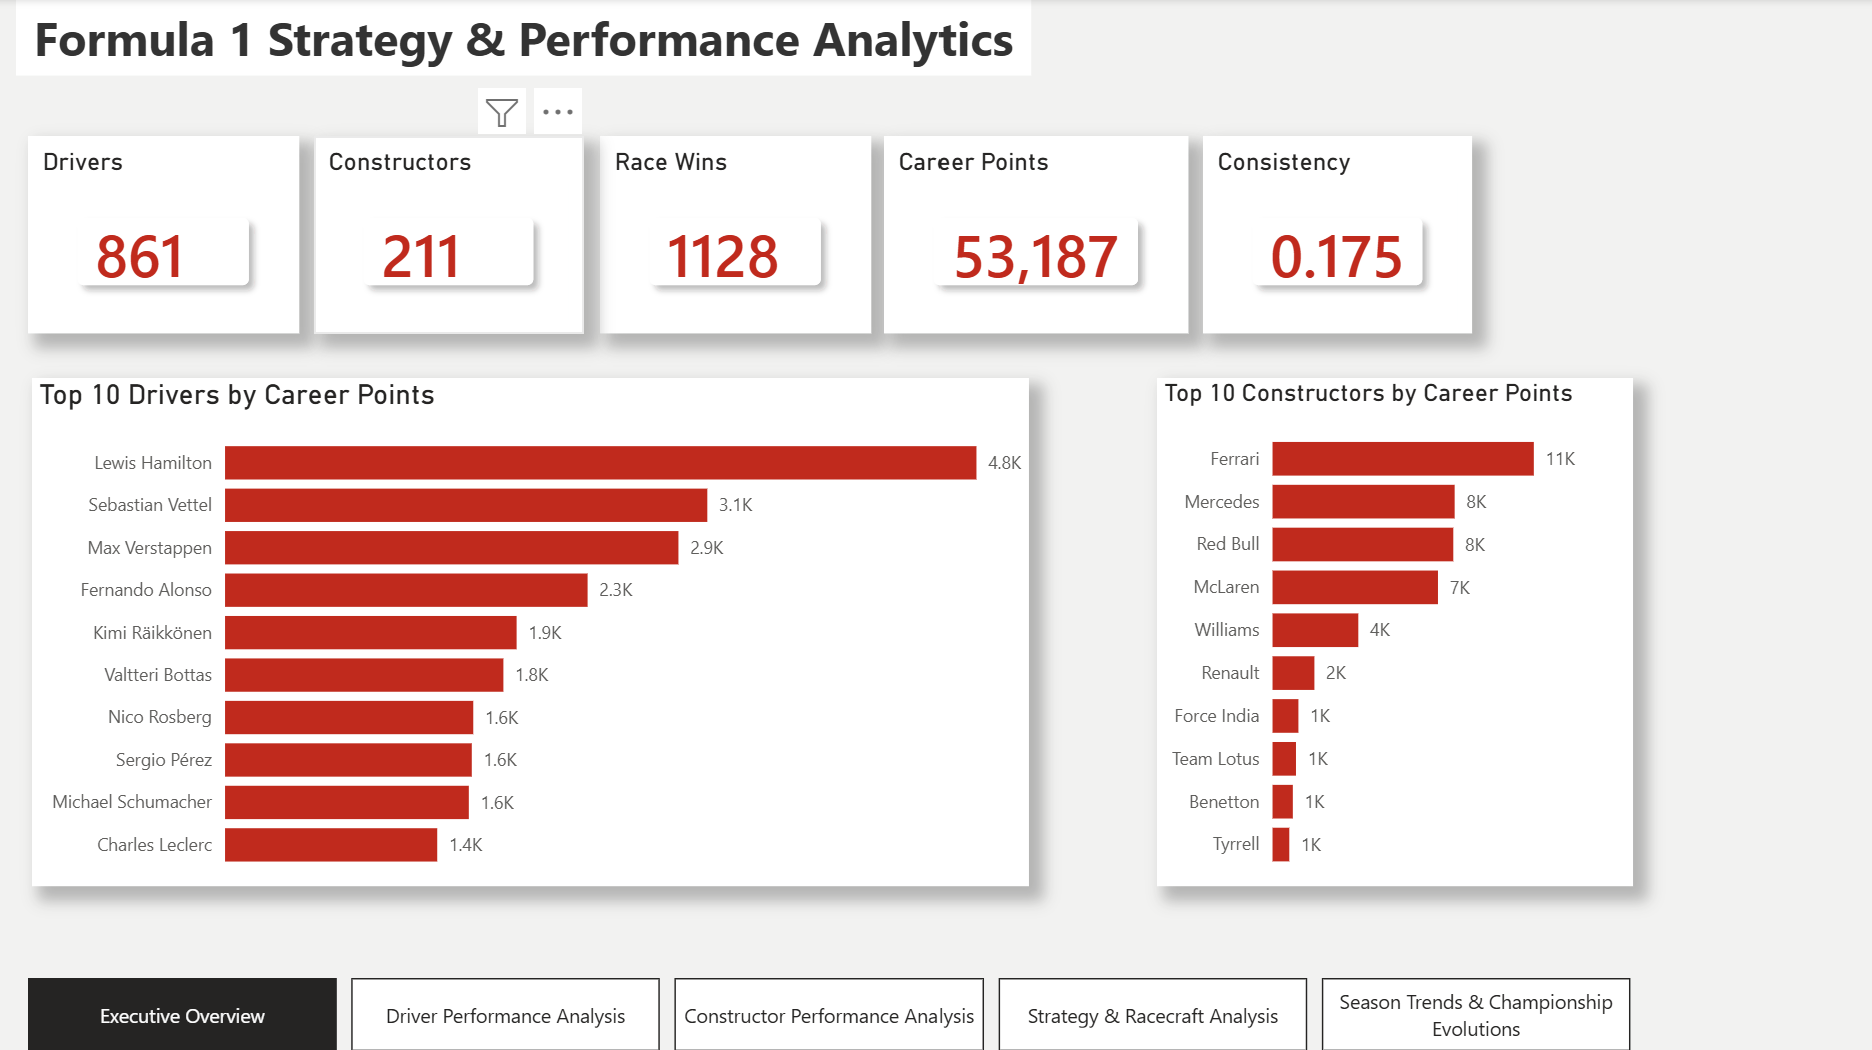

This screenshot's page, from the dashboard's own definition file:
{"tool":"powerbi","page":{"name":"Executive Overview","canvas":[1280,720],"ordinal":0},"visuals":[{"type":"textbox","box":[10.7,0,693.3,53],"z":0},{"type":"cardVisual","title":"Drivers","fields":{"Data":["driver_kpis.Total Drivers"]},"box":[19.5,94.7,185.5,134.9],"z":1000},{"type":"cardVisual","title":"Race Wins","fields":{"Data":["driver_kpis.Total Wins"]},"box":[409.9,94.7,185.5,134.9],"z":2000},{"type":"cardVisual","title":"Constructors","fields":{"Data":["driver_kpis.Total Constructors"]},"box":[215.4,94.7,184.2,134.9],"z":3000},{"type":"cardVisual","title":"Career Points","fields":{"Data":["driver_kpis.Total Career Points"]},"box":[604.3,94.7,207.5,134.9],"z":4000},{"type":"cardVisual","title":"Consistency","fields":{"Data":["driver_kpis.Avg Consistency"]},"box":[822,94.7,184.2,134.9],"z":5000},{"type":"clusteredBarChart","title":"Top 10 Drivers by Career Points","fields":{"Category":["driver_kpis.driver_name"],"Y":["Sum(driver_kpis.total_points)"]},"box":[22.1,259.5,681.1,347.7],"z":6000},{"type":"clusteredBarChart","title":"Top 10 Constructors by Career Points","fields":{"Category":["team_kpis.constructor_name"],"Y":["Sum(team_kpis.total_points)"]},"box":[790.1,259.5,325.6,347.7],"z":7000},{"type":"pageNavigator","box":[19.1,670.1,1096.8,50.6],"z":8000}]}

Visuals, with their boxes in screenshot pixels (x1, y1, x2, y2), scaled from the page's 1280x720 canvas onto the 1872x1050 screenshot:
textbox: (left=16, top=0, right=1030, bottom=77)
"Drivers" cardVisual: (left=29, top=138, right=300, bottom=335)
"Race Wins" cardVisual: (left=599, top=138, right=871, bottom=335)
"Constructors" cardVisual: (left=315, top=138, right=584, bottom=335)
"Career Points" cardVisual: (left=884, top=138, right=1187, bottom=335)
"Consistency" cardVisual: (left=1202, top=138, right=1472, bottom=335)
"Top 10 Drivers by Career Points" clusteredBarChart: (left=32, top=378, right=1028, bottom=886)
"Top 10 Constructors by Career Points" clusteredBarChart: (left=1156, top=378, right=1632, bottom=886)
pageNavigator: (left=28, top=977, right=1632, bottom=1049)
